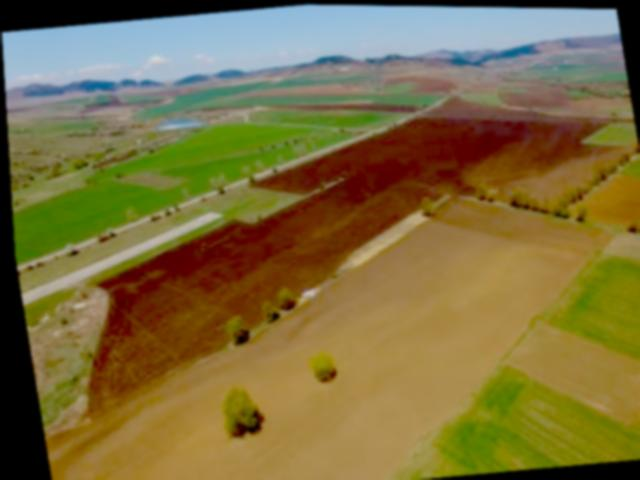uav: (291, 281, 318, 303)
